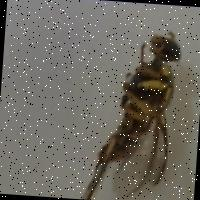Oriental-fruit-fly: (75, 16, 193, 200)
